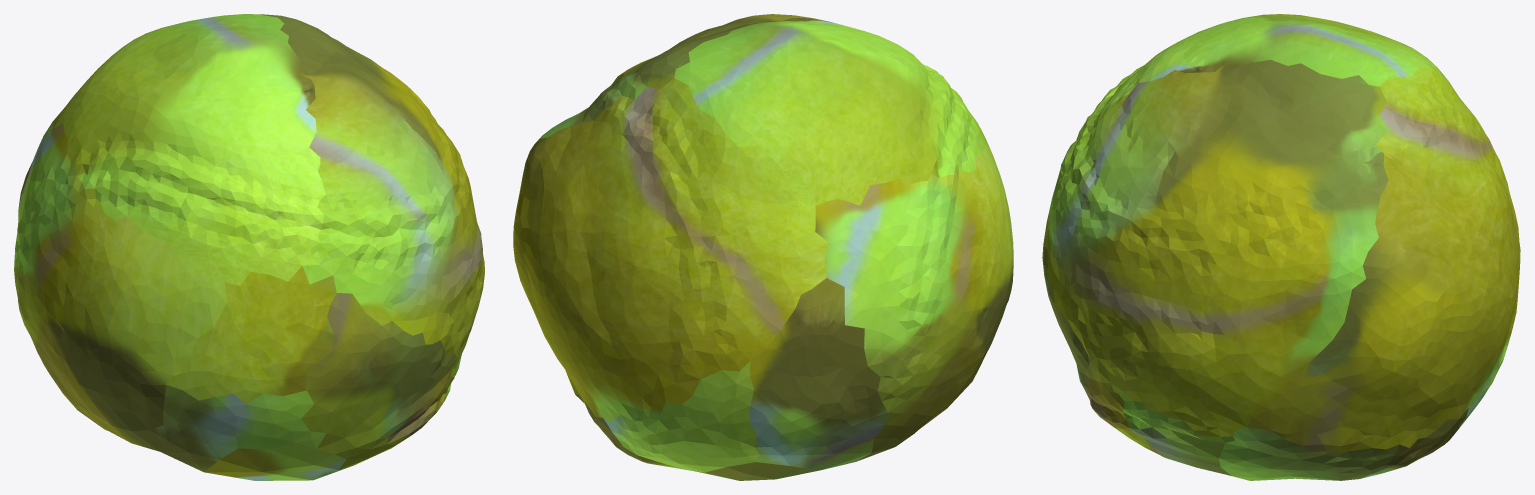
The model's file is baseball.obj.
The picture shows the model from 3 angles, left to right: view 1: azimuth 30°, elevation 25°; view 2: azimuth 150°, elevation 25°; view 3: azimuth 270°, elevation 25°; orthographic projection.
Size of the model in its own units: 0.073 by 0.0691 by 0.0743.
